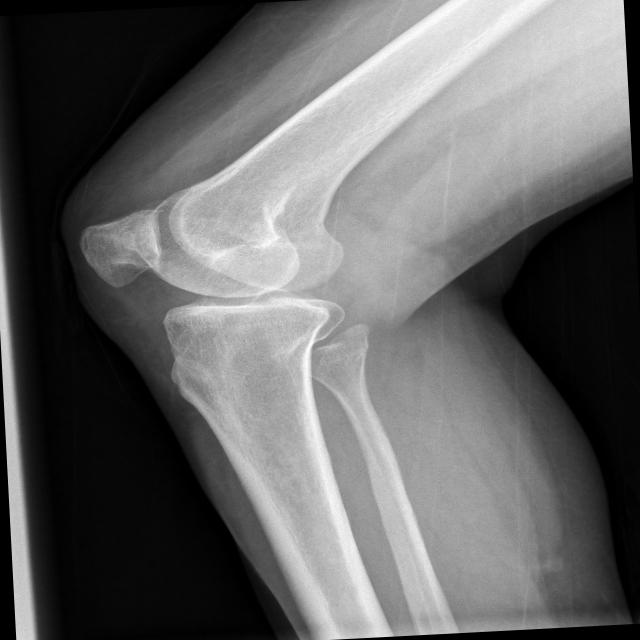Knee: (74, 192, 354, 400)
